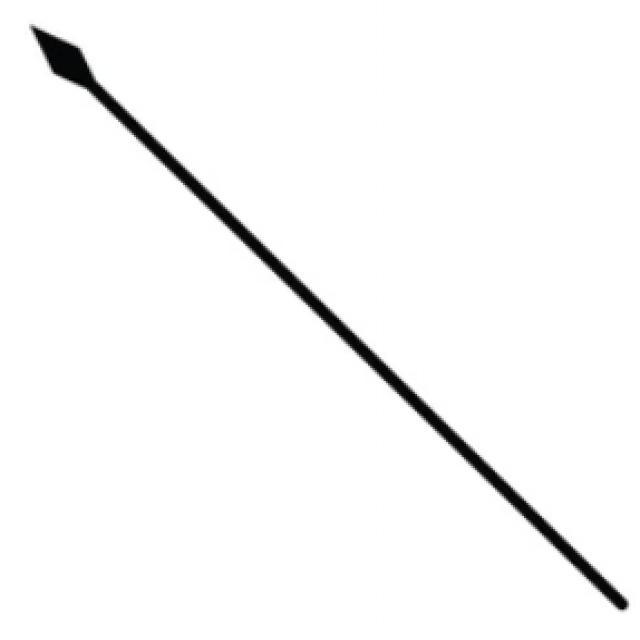spear: (15, 4, 634, 620)
